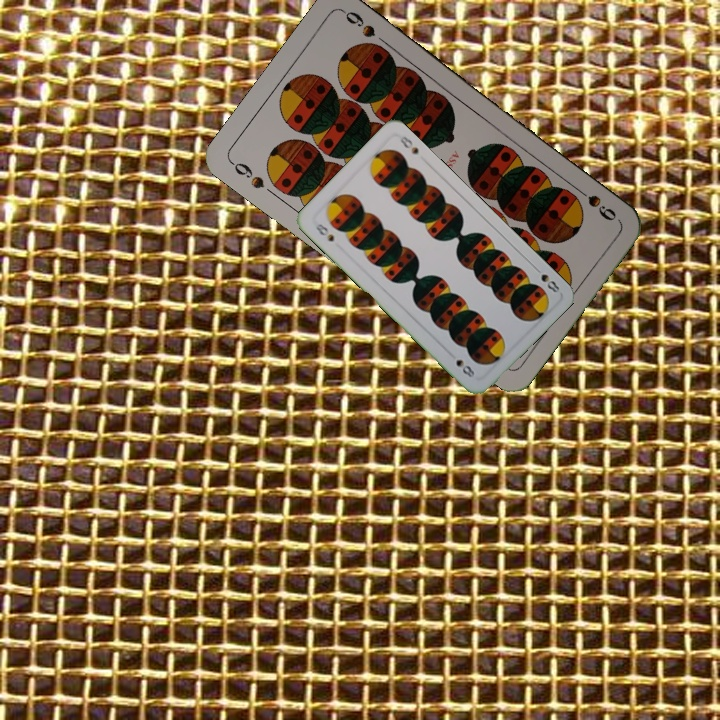S8: (530, 262, 562, 296), (311, 219, 337, 244)
S9: (569, 182, 619, 224), (226, 157, 267, 192)
